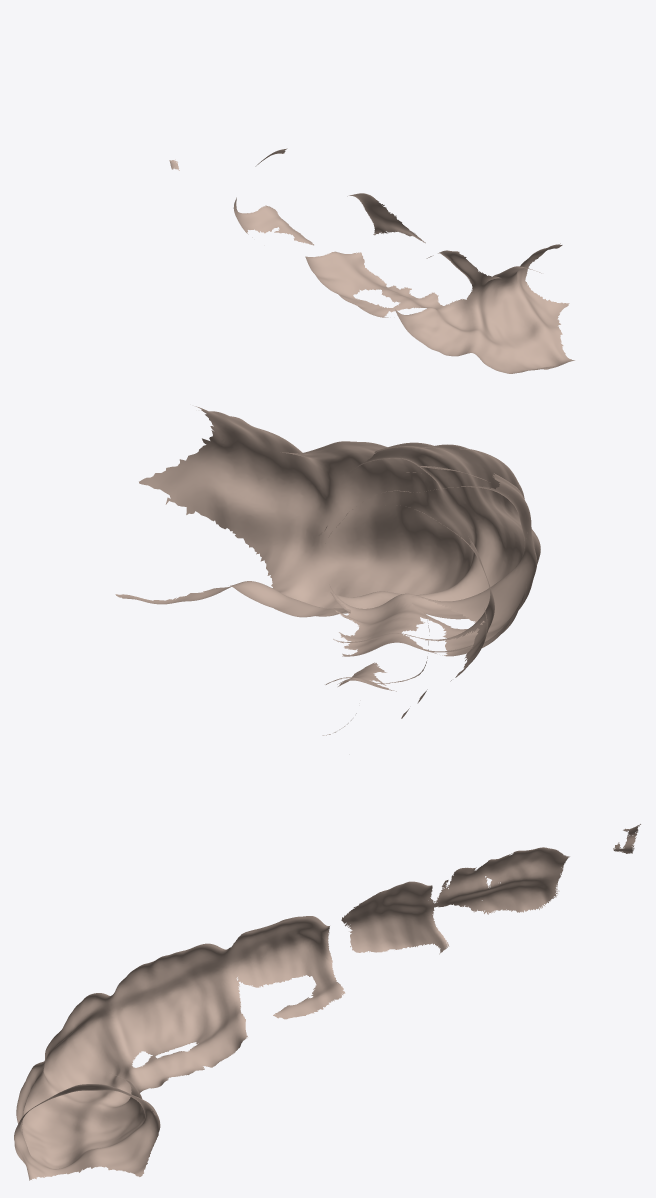
Rendered from c3vd_trans_t4_a_gt.glb.
3 renders of one model, top to bottom at view 1: azimuth 30°, elevation 25°; view 2: azimuth 150°, elevation 25°; view 3: azimuth 270°, elevation 25°, orthographic. The views are drawn at different scales.
Size of the model in its own units: 7.24 by 4.11 by 10.57.
